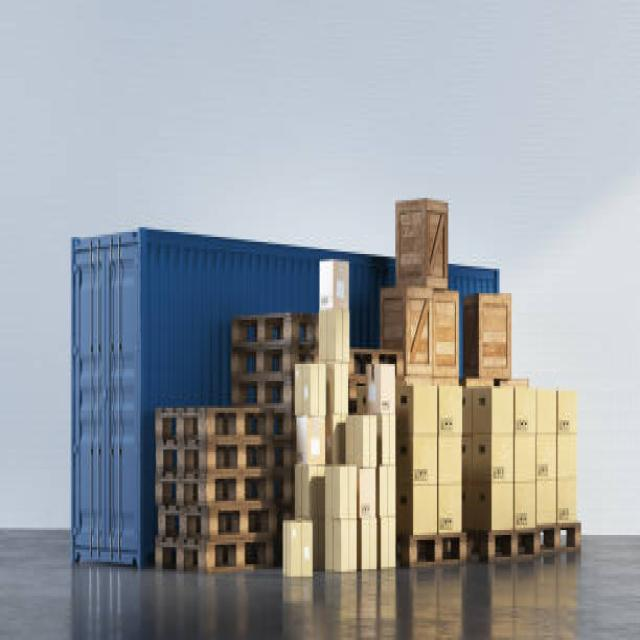Wooden-Pallets: (152, 309, 317, 576), (149, 537, 275, 583), (148, 471, 278, 511), (149, 436, 275, 476), (153, 405, 270, 447), (228, 310, 314, 346), (229, 344, 292, 377)
